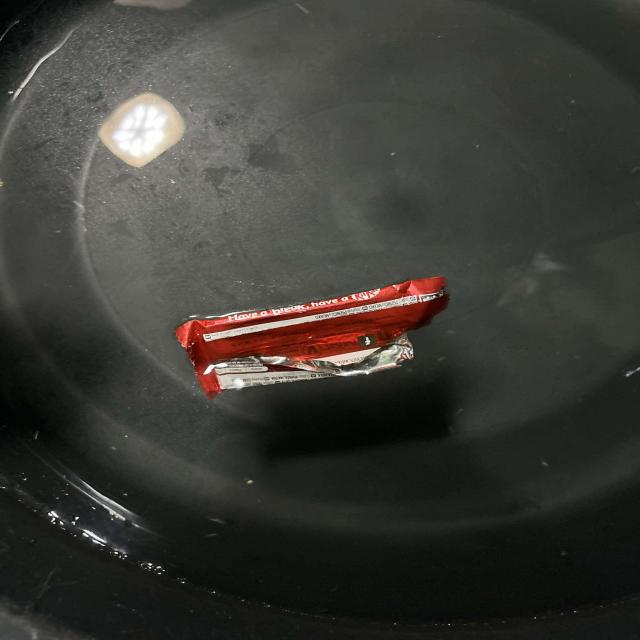Plastic Wrapper: (149, 262, 483, 407)
